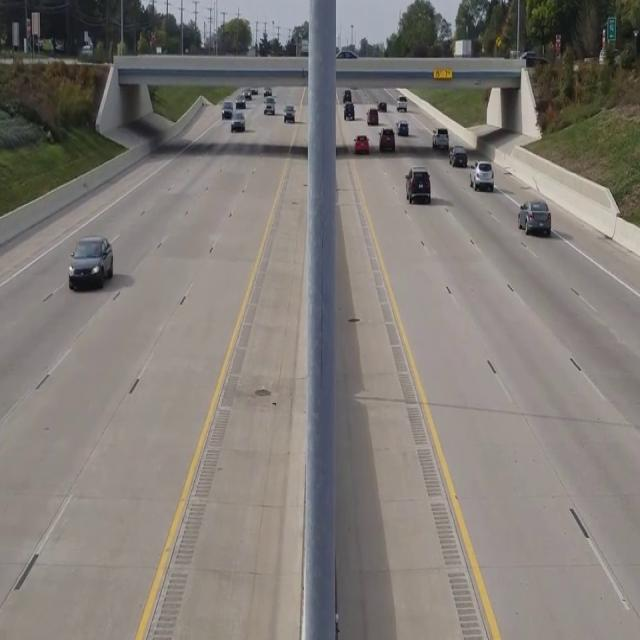car: (68, 236, 113, 289), (518, 198, 551, 236), (405, 167, 431, 204)
